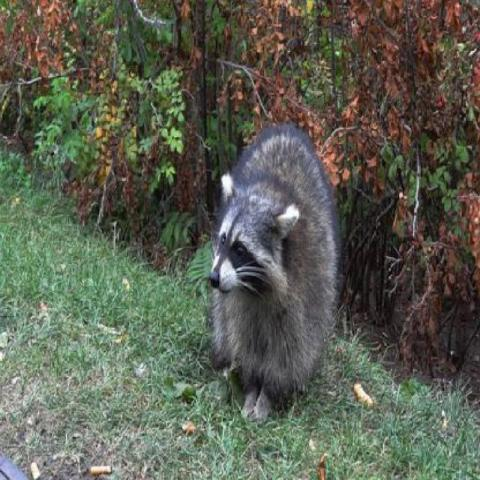small_animal: (204, 121, 344, 424)
